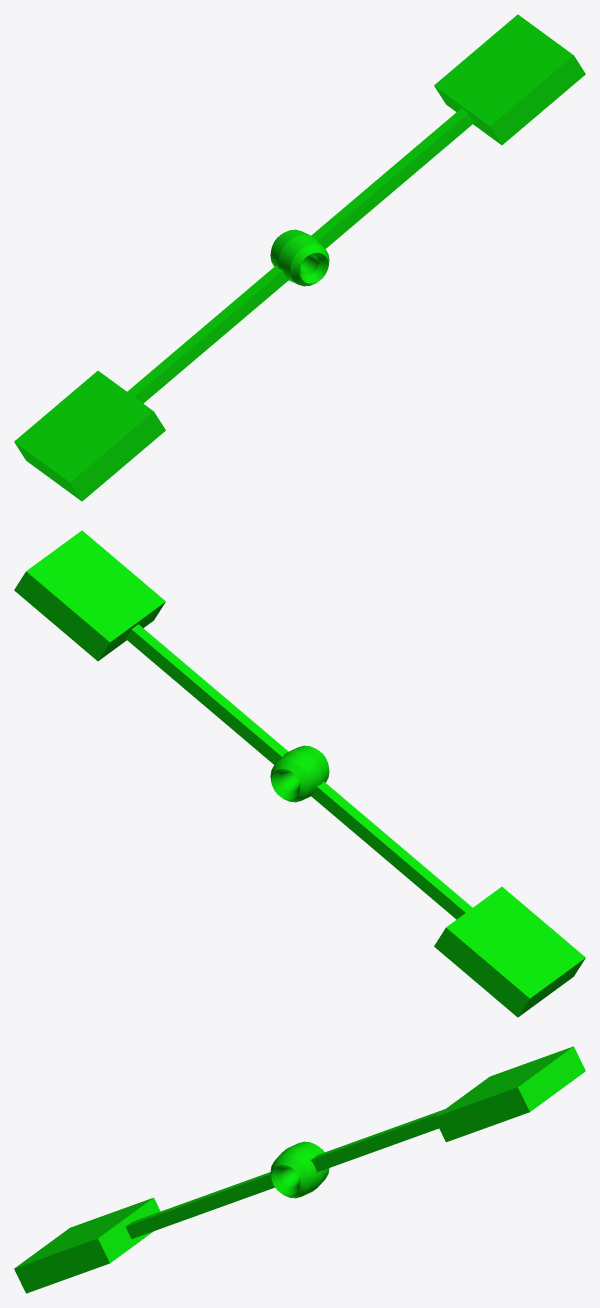
The model's file is Huriko 2.fbx.
3 views of the same model, one above another, from view 1: azimuth 30°, elevation 25°; view 2: azimuth 150°, elevation 25°; view 3: azimuth 330°, elevation 25° (orthographic).
Parts seen in each view (by area): view 1: pTorus4; view 2: pTorus4; view 3: pTorus4.
Part boxes in pixels (x1=…): pTorus4: x1=14, y1=14, x2=585, y2=501; pTorus4: x1=14, y1=530, x2=585, y2=1017; pTorus4: x1=14, y1=1046, x2=585, y2=1293.
Size of the model in its own units: 10.64 by 6.43 by 2.
